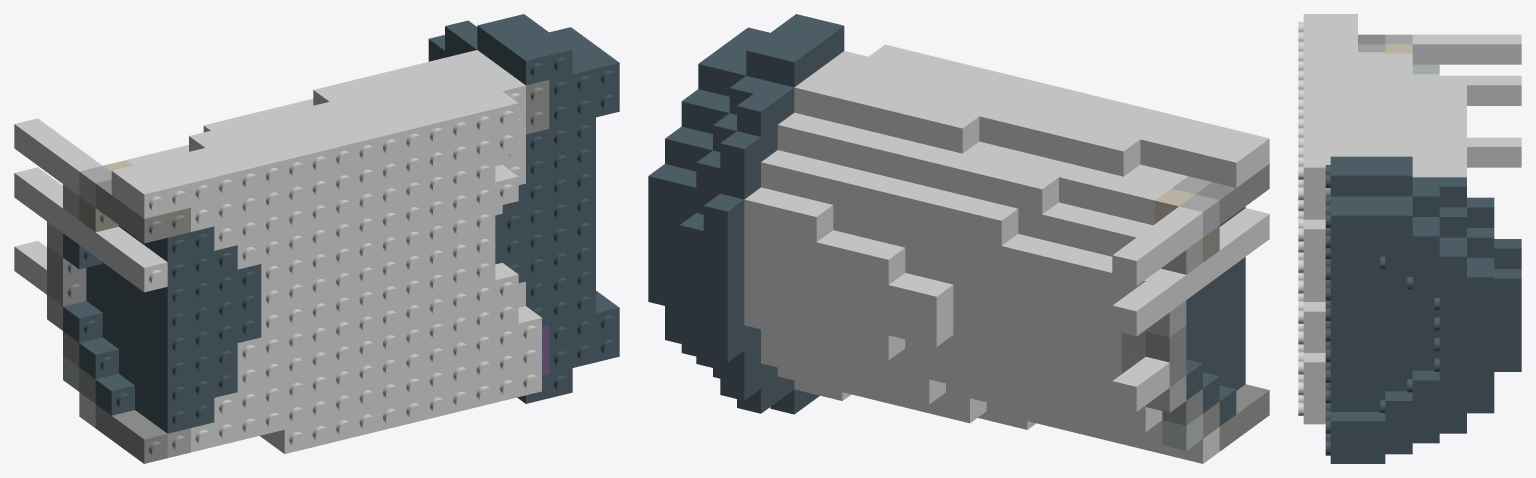
The model's file is full.glb.
The picture shows the model from 3 angles, left to right: view 1: azimuth 30°, elevation 25°; view 2: azimuth 150°, elevation 25°; view 3: azimuth 270°, elevation 25°; orthographic projection. The views are drawn at different scales.
Visible parts, largest first — view 1: world; view 2: world; view 3: world.
Boxes of the visible parts, bbox=[...] form: world: bbox=[14, 14, 619, 463]; world: bbox=[648, 14, 1269, 463]; world: bbox=[1298, 14, 1521, 463].
Size of the model in its own units: 168 by 112 by 78.6.
